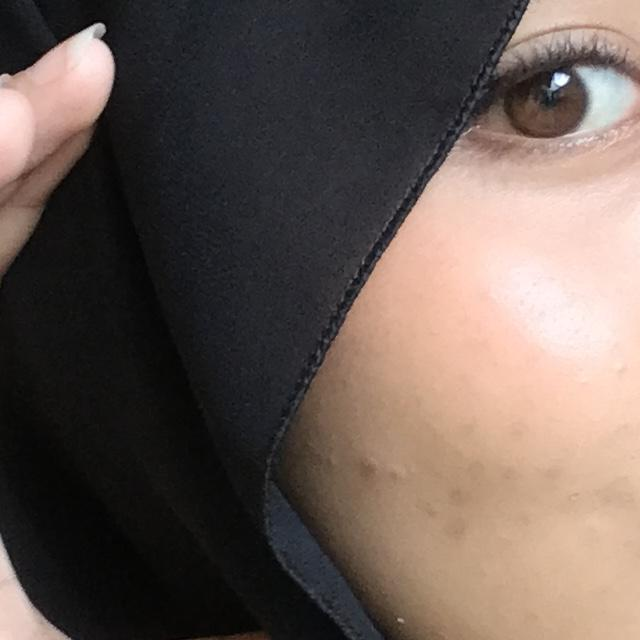mendengar: (0, 26, 320, 640)
